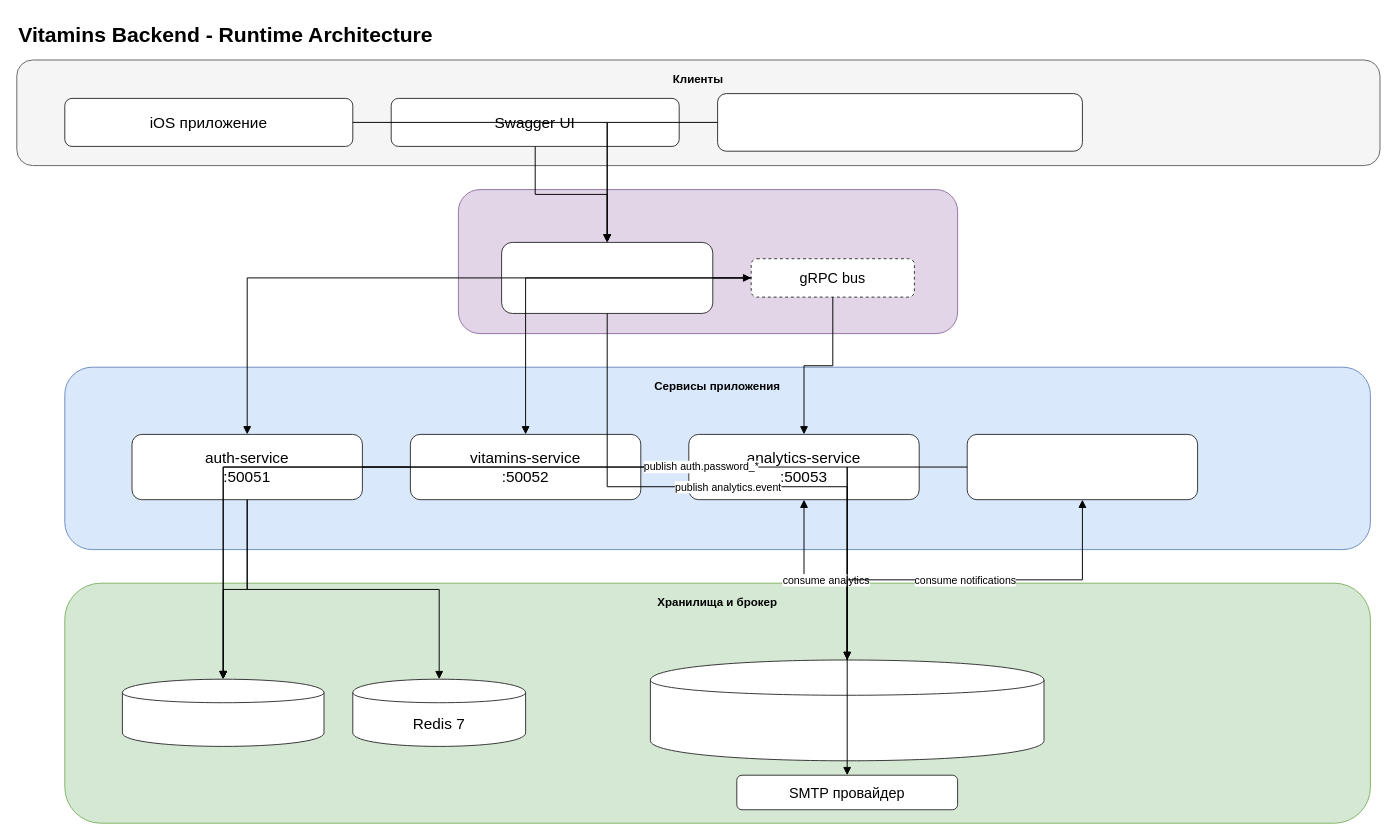
Image size: 1397x840. Some labels were removed from this diagram. Here are the shapes that lost their labels. From the top down, the box of each, then its label:
(717, 93, 1082, 151): Admin клиент X-Admin-Token
(501, 241, 713, 313): gateway HTTP :8080 /api/v1
(457, 189, 958, 334): Edge слой
(966, 433, 1198, 500): notifier worker
(121, 678, 324, 746): PostgreSQL 16
(649, 659, 1044, 761): RabbitMQ 3.13 exchange: vitamins.events
